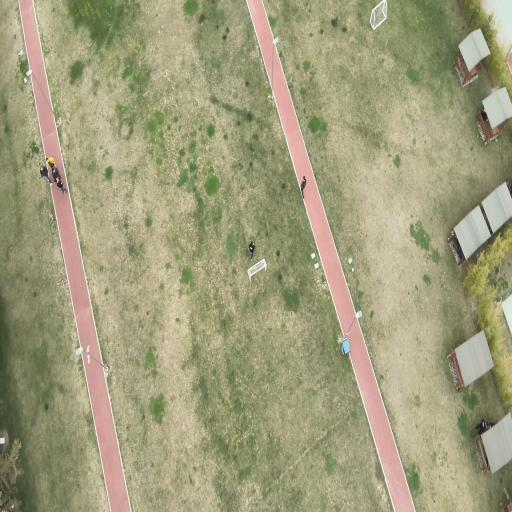person: (40, 165, 53, 186), (476, 419, 488, 435), (56, 178, 67, 194), (52, 167, 60, 182), (249, 241, 255, 260), (301, 176, 306, 198), (46, 157, 55, 169), (486, 422, 495, 429)
